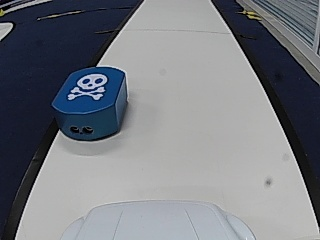danger: (67, 74, 104, 101)
